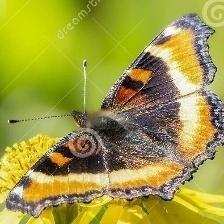butterfly: (7, 15, 224, 216)
